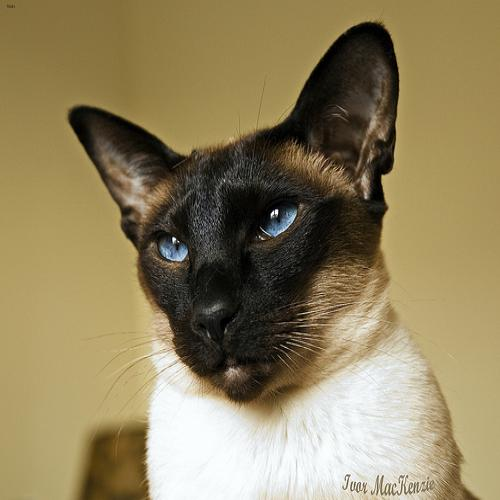siamese: (67, 6, 416, 418)
